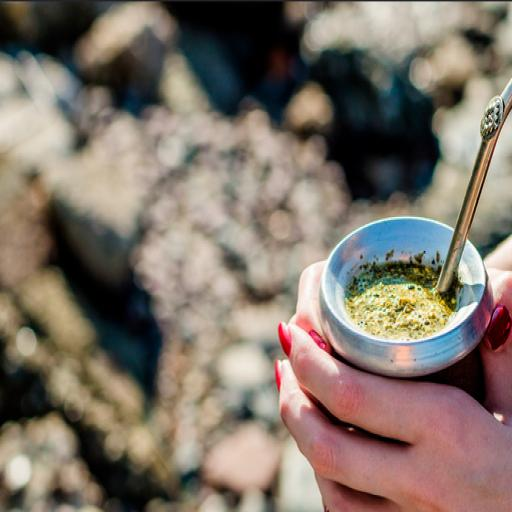mate: (321, 201, 493, 401)
